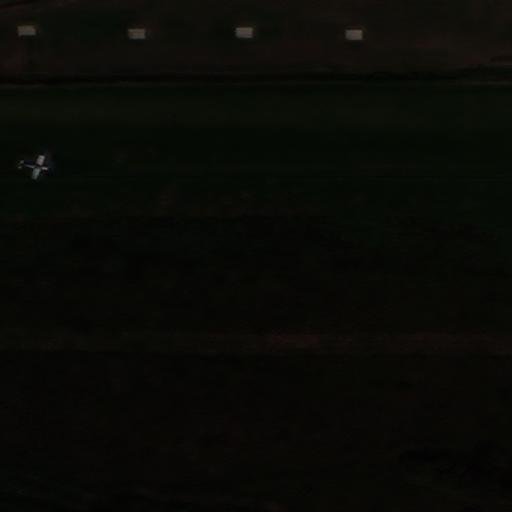Small Civil Transport: (17, 155, 49, 180)
